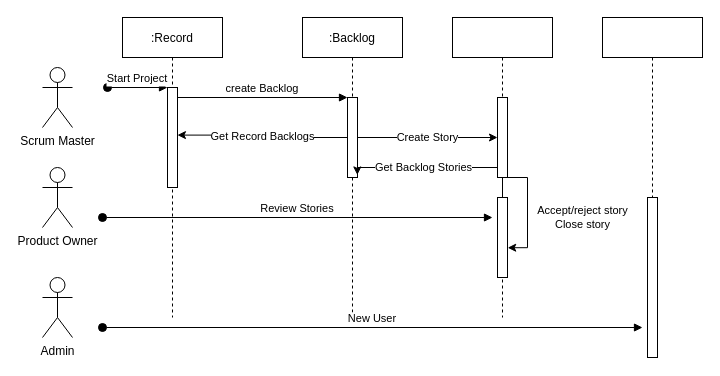
This 720x376 diagram has some shape labels left out. Each missing label, with the centre of its shape:
":Story" belongs at pixel 502 167.
":User" belongs at pixel 652 167.
